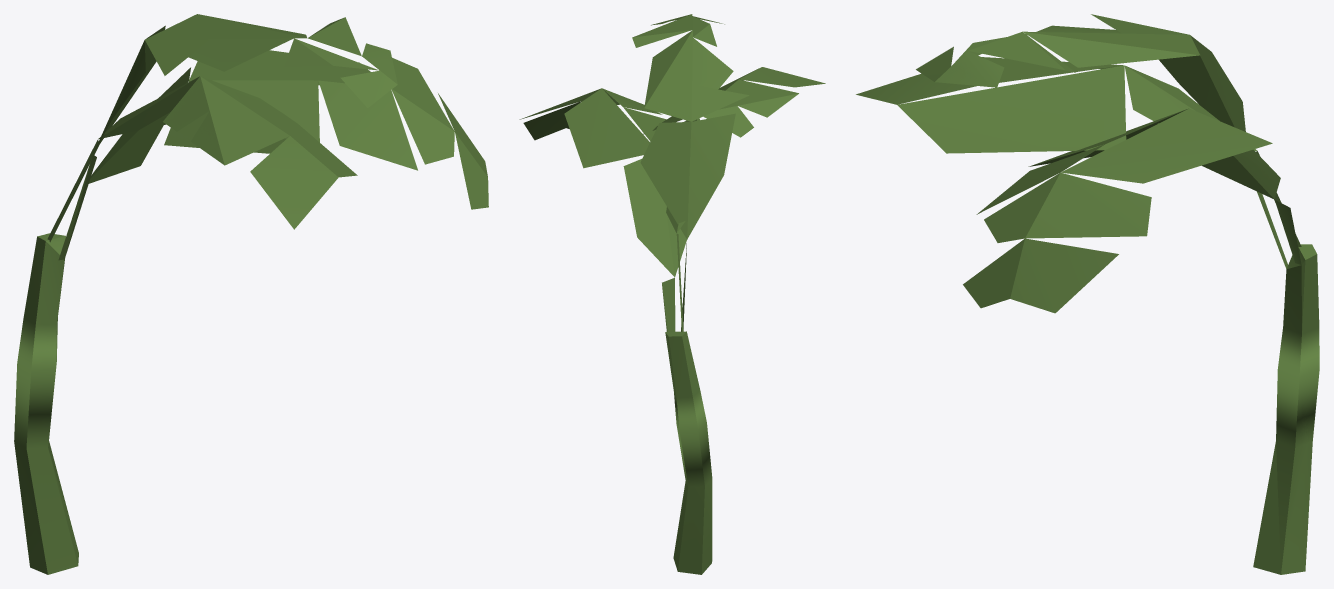
File: Vegetation_Tree_Bamboo_09.fbx
The picture shows the model from 3 angles, left to right: view 1: azimuth 30°, elevation 25°; view 2: azimuth 150°, elevation 25°; view 3: azimuth 270°, elevation 25°; orthographic projection. The views are drawn at different scales.
Visible parts, largest first — view 1: Vegetation_Tree_Bamboo_09; view 2: Vegetation_Tree_Bamboo_09; view 3: Vegetation_Tree_Bamboo_09.
Part boxes in pixels (x1,y1,x2,y2): Vegetation_Tree_Bamboo_09: (14, 14, 488, 574); Vegetation_Tree_Bamboo_09: (519, 14, 825, 574); Vegetation_Tree_Bamboo_09: (856, 14, 1319, 574).
Bounding box in the file's own units: 76.06 × 123 × 86.25.
